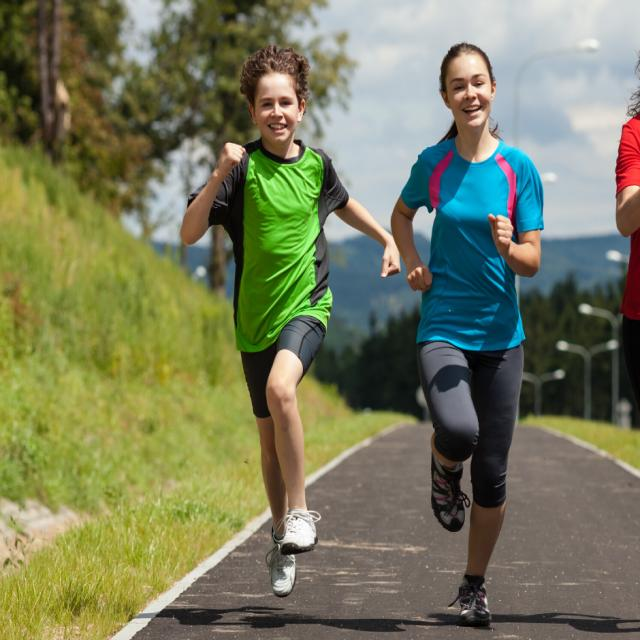Person: (179, 47, 400, 600), (390, 42, 542, 624)
